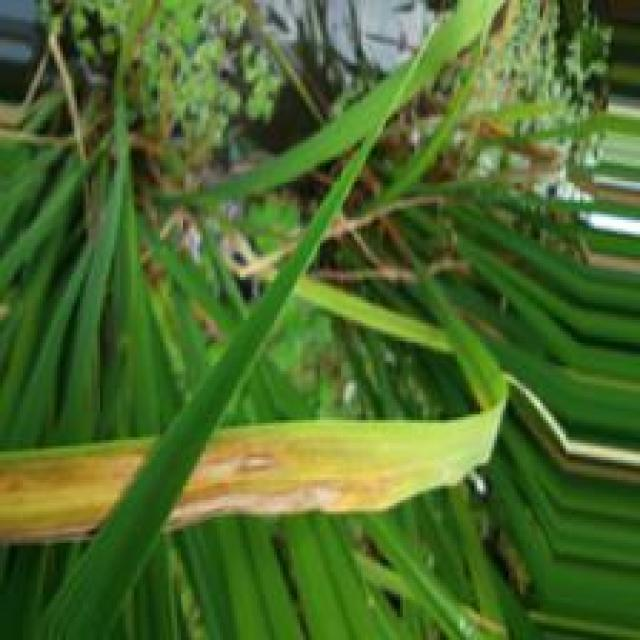Leaf_Scald: (158, 444, 396, 536)
